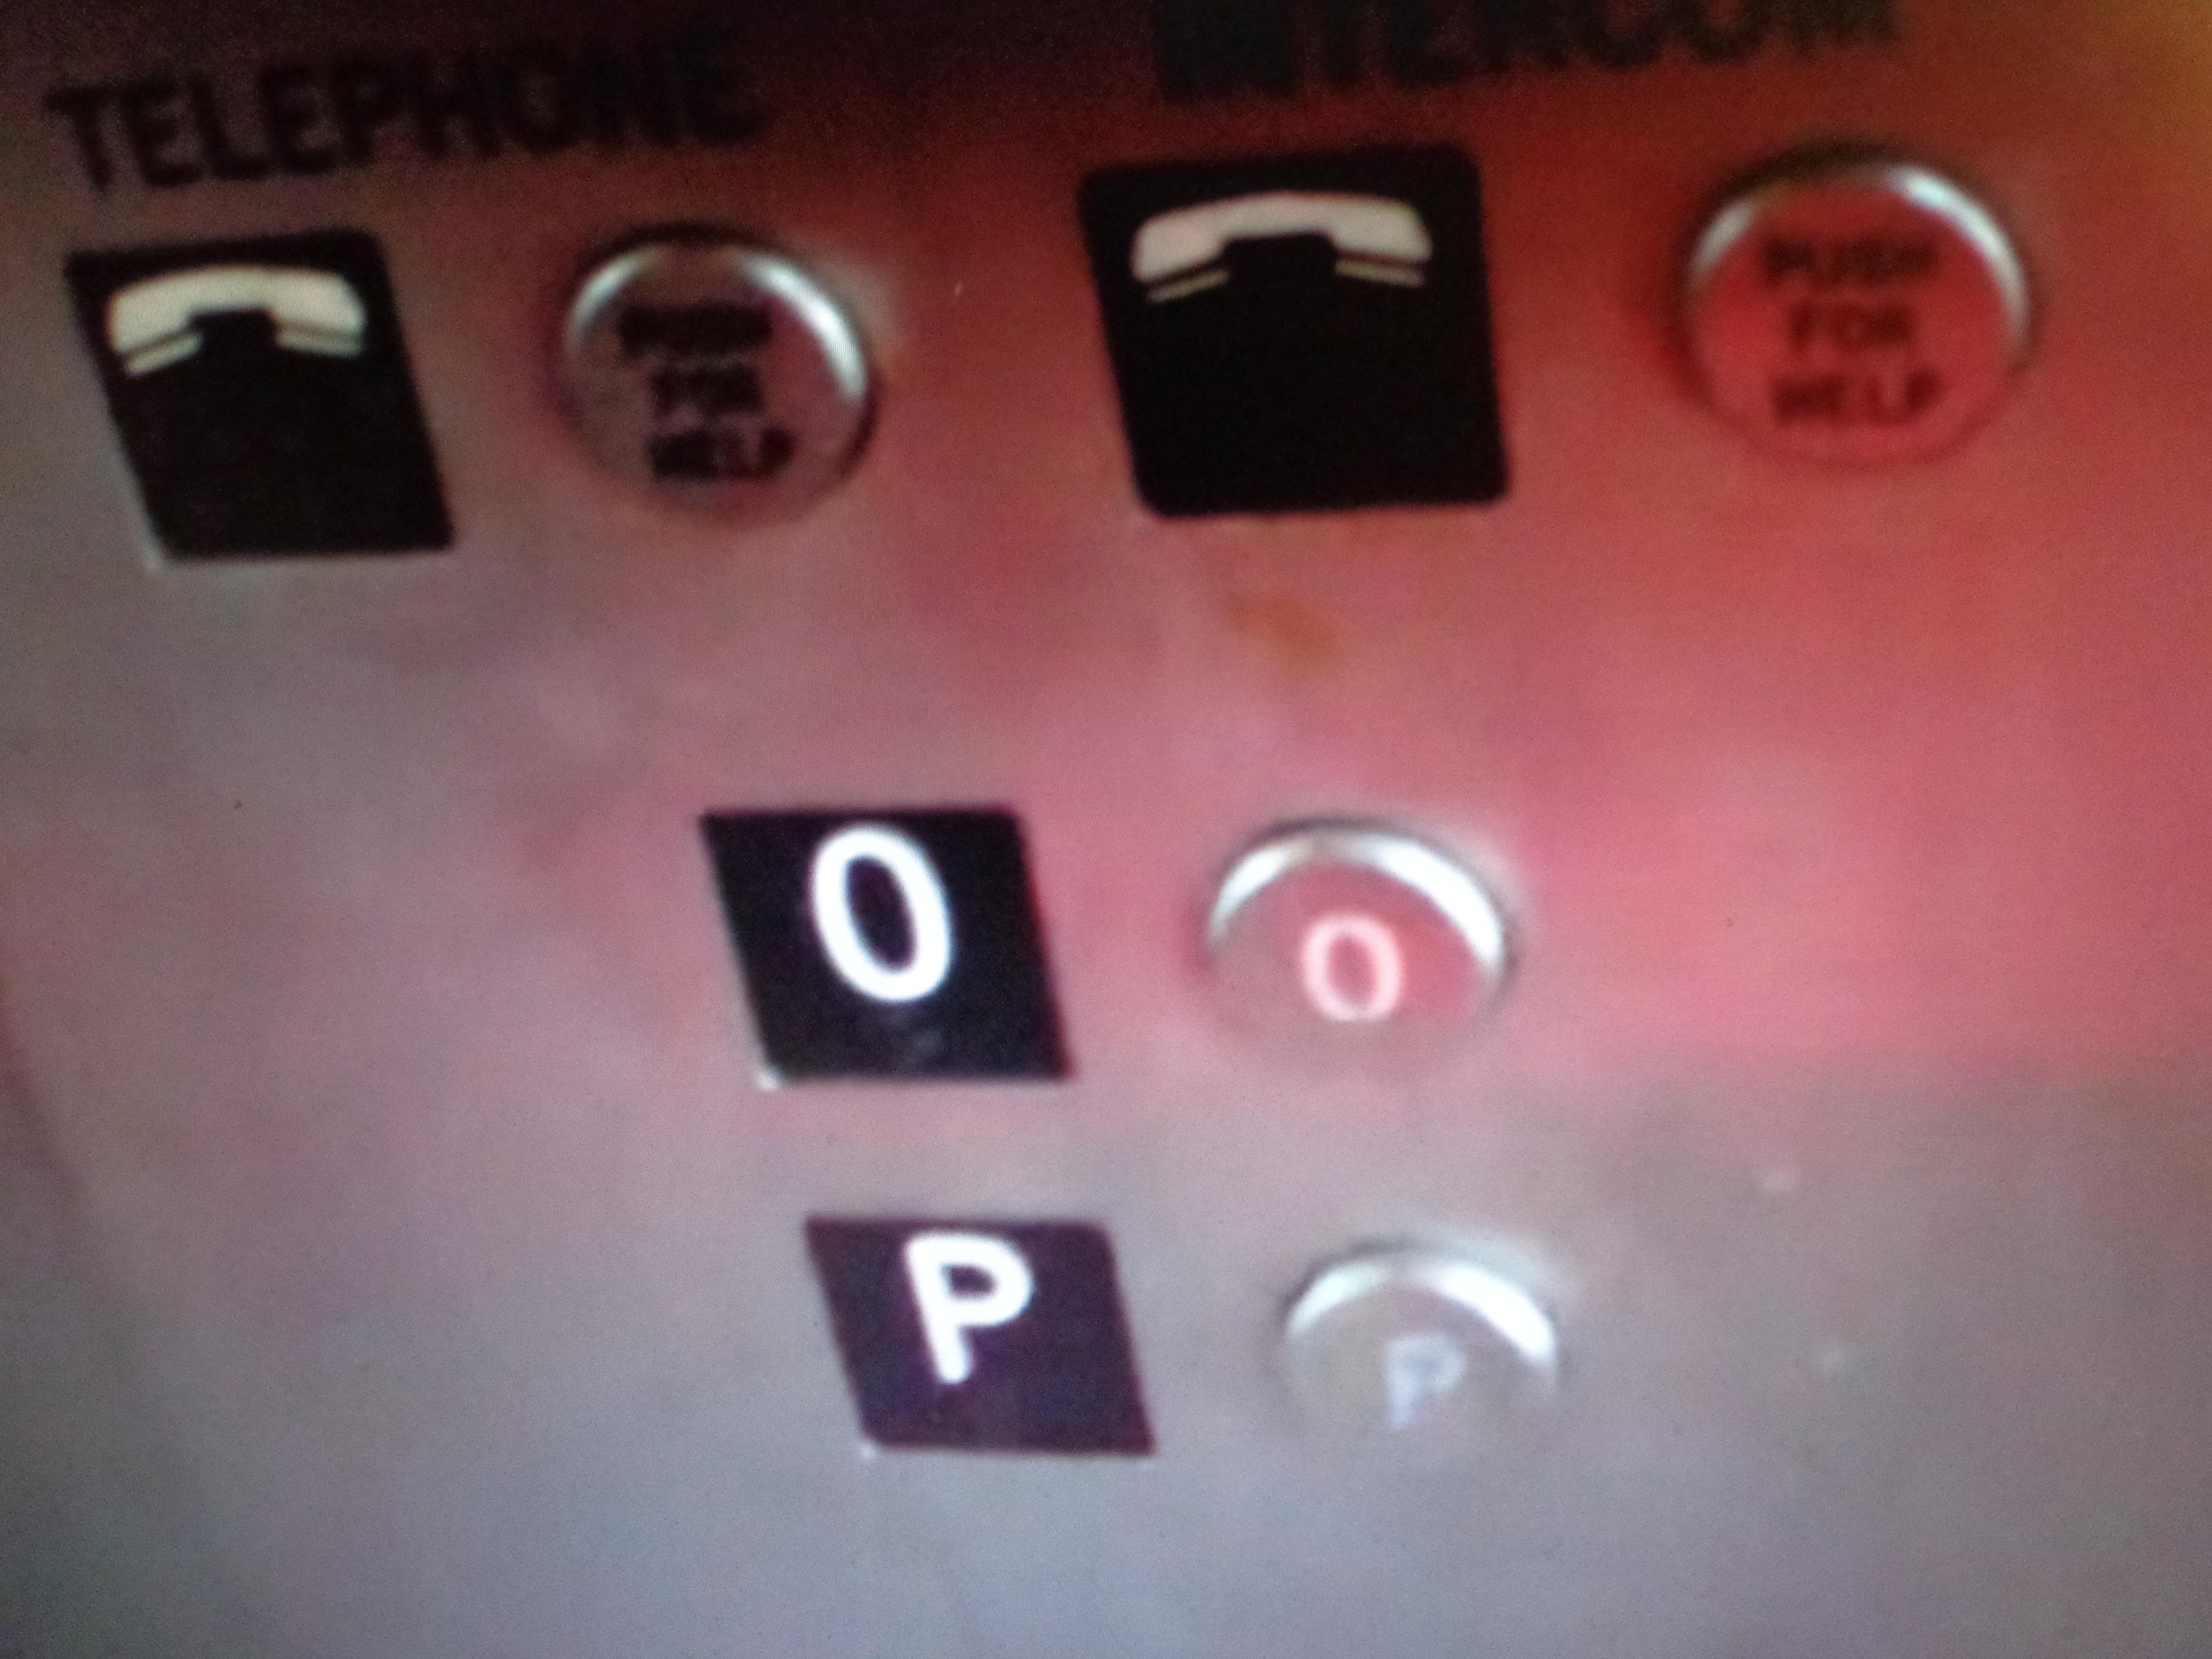0: (690, 782, 1078, 1100), (1184, 807, 1522, 1087)
P: (787, 1202, 1167, 1474), (1263, 1220, 1568, 1492)
call: (1075, 136, 1524, 519), (54, 216, 458, 573)
text_blur: (1662, 138, 2052, 474), (536, 213, 885, 530)
